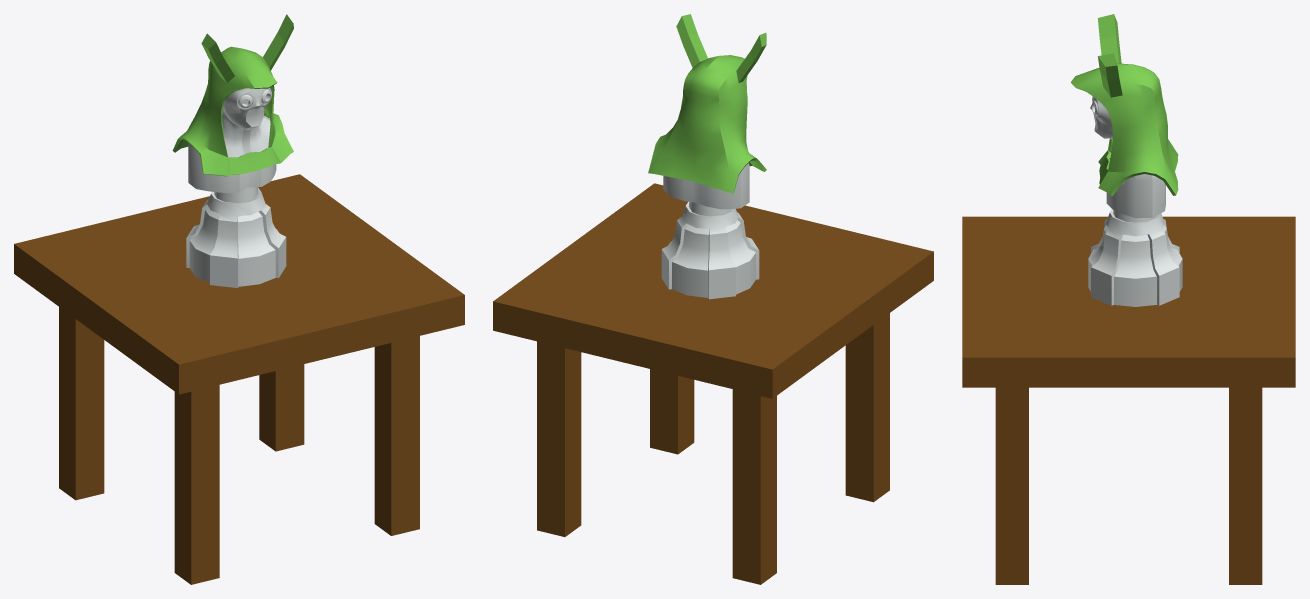
The model's file is Patron.fbx.
The picture shows the model from 3 angles, left to right: view 1: azimuth 30°, elevation 25°; view 2: azimuth 150°, elevation 25°; view 3: azimuth 270°, elevation 25°; orthographic projection. The views are drawn at different scales.
Visible parts, largest first — view 1: Patron; view 2: Patron; view 3: Patron.
Part boxes in pixels (x1,y1,x2,y2): Patron: [14, 14, 464, 584]; Patron: [493, 14, 933, 584]; Patron: [962, 14, 1295, 584].
Size of the model in its own units: 100 by 164 by 100.
